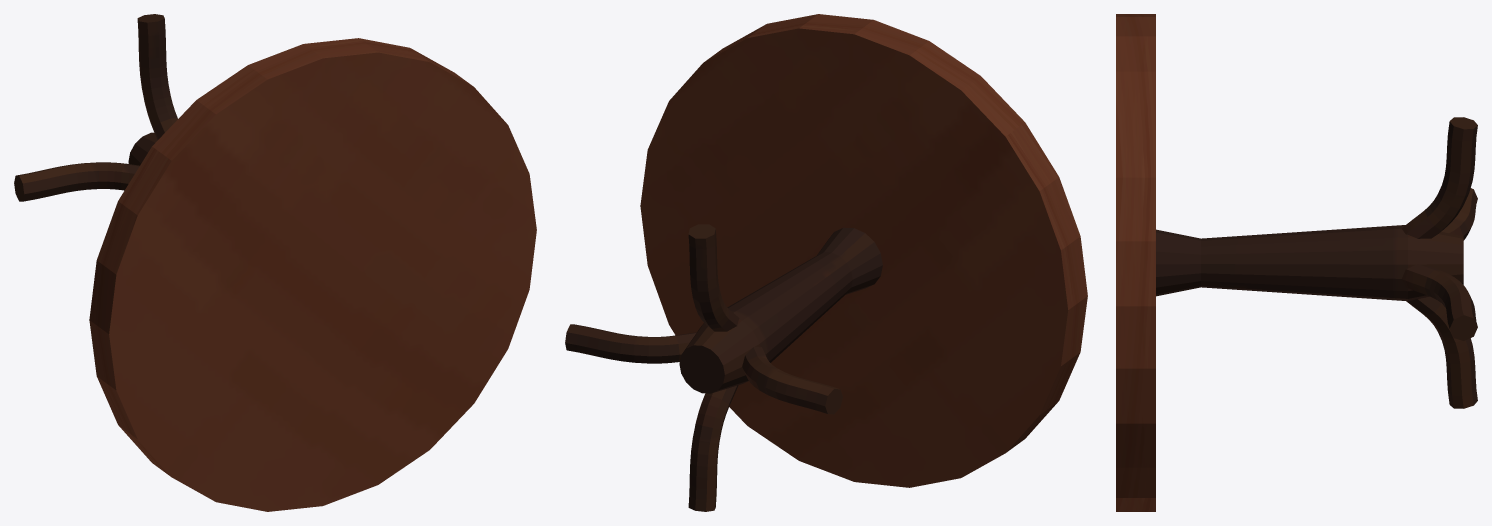
The model's file is pz_table_tables_high_01_dark_round_table.obj.
3 renders of one model, left to right at view 1: azimuth 30°, elevation 25°; view 2: azimuth 150°, elevation 25°; view 3: azimuth 270°, elevation 25°, orthographic.
Bounding box in the file's own units: 0.94 × 0.94 × 0.6806.
1 material, 1 textured.
